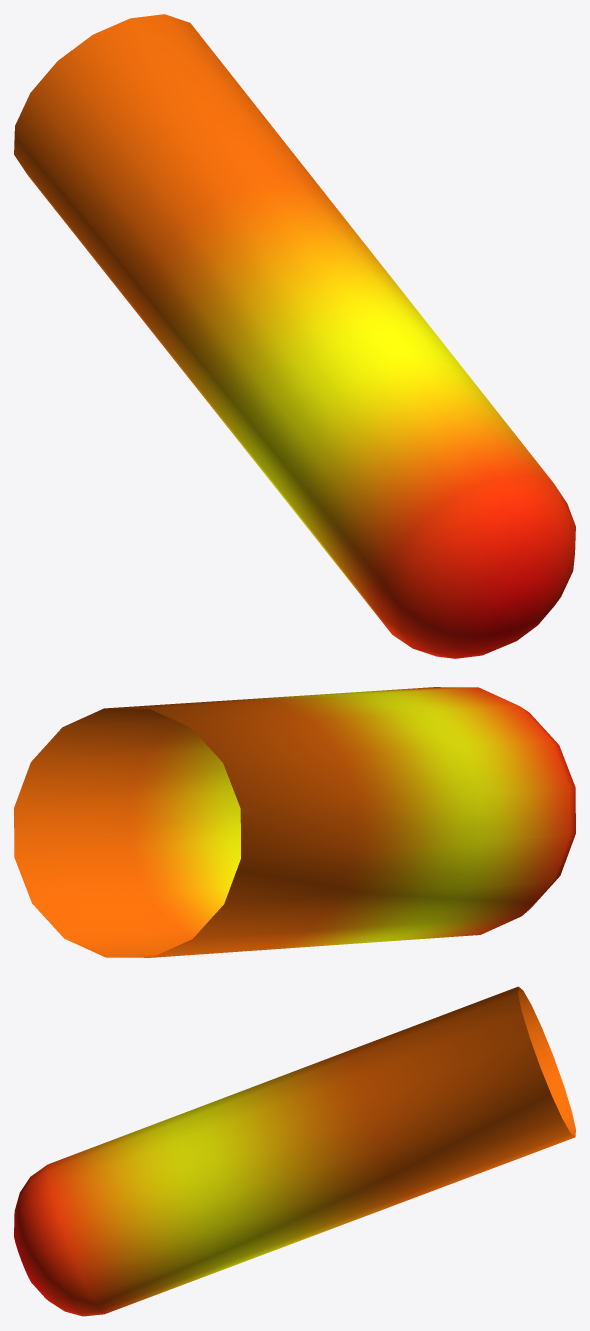
File: Fusion_BurnTube.fbx
3 views of the same model, one above another, from view 1: azimuth 30°, elevation 25°; view 2: azimuth 150°, elevation 25°; view 3: azimuth 270°, elevation 25° (orthographic). The views are drawn at different scales.
Parts seen in each view (by area): view 1: Fusion_BurnTube; view 2: Fusion_BurnTube; view 3: Fusion_BurnTube.
Part boxes in pixels (box(x1,y1,x2,y2)): Fusion_BurnTube: box(14, 14, 575, 658); Fusion_BurnTube: box(14, 687, 575, 957); Fusion_BurnTube: box(14, 986, 575, 1316).
Bounding box in the file's own units: 0.0369 × 0.0646 × 0.1087.
